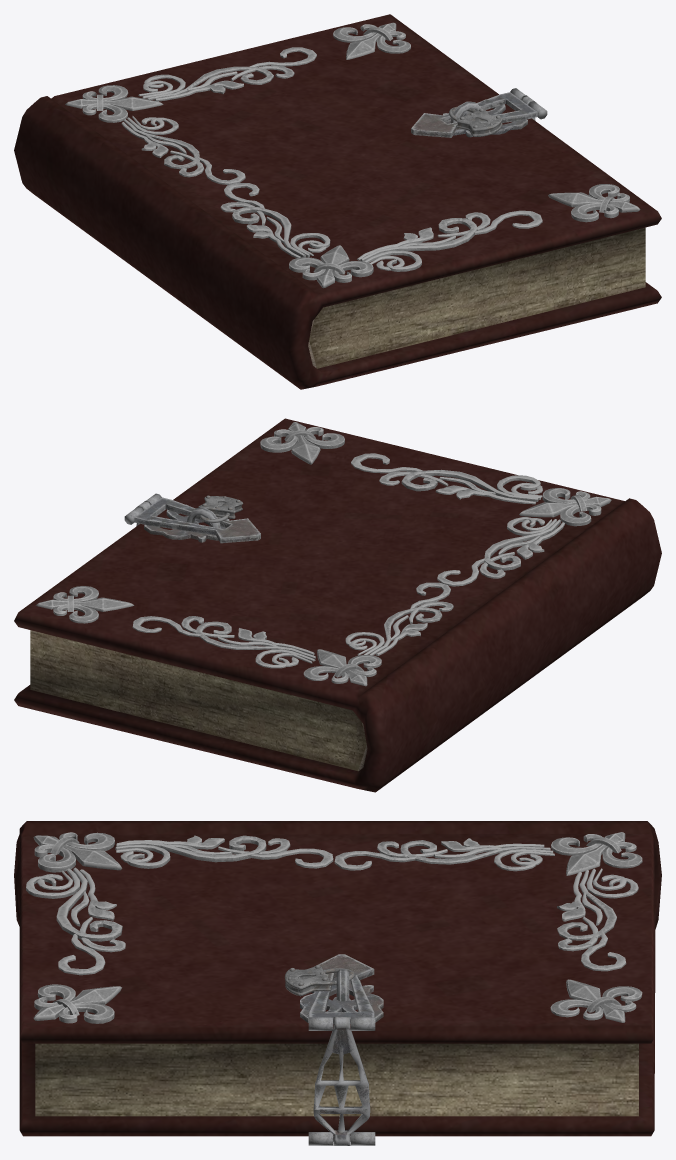
File: spellbook.glb
3 renders of one model, top to bottom at view 1: azimuth 30°, elevation 25°; view 2: azimuth 150°, elevation 25°; view 3: azimuth 270°, elevation 25°, orthographic. The views are drawn at different scales.
Visible parts, largest first — view 1: Book; view 2: Book; view 3: Book.
Part boxes in pixels (bbox=[...]): Book: bbox=[14, 14, 661, 389]; Book: bbox=[14, 418, 661, 792]; Book: bbox=[14, 821, 661, 1145].
Size of the model in its own units: 124 by 36.54 by 154.
1 material, 1 textured.
